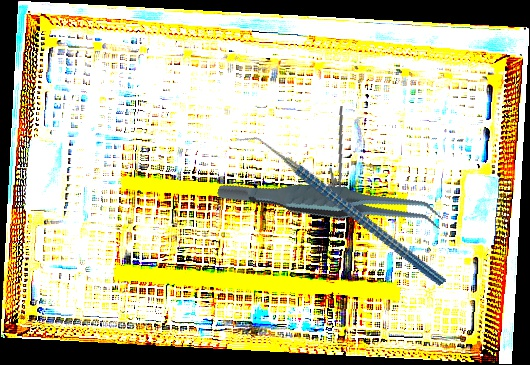Chopper: (235, 84, 447, 336)
Needle Holder: (317, 105, 355, 222)
Tissue Forceps: (215, 136, 447, 270)
